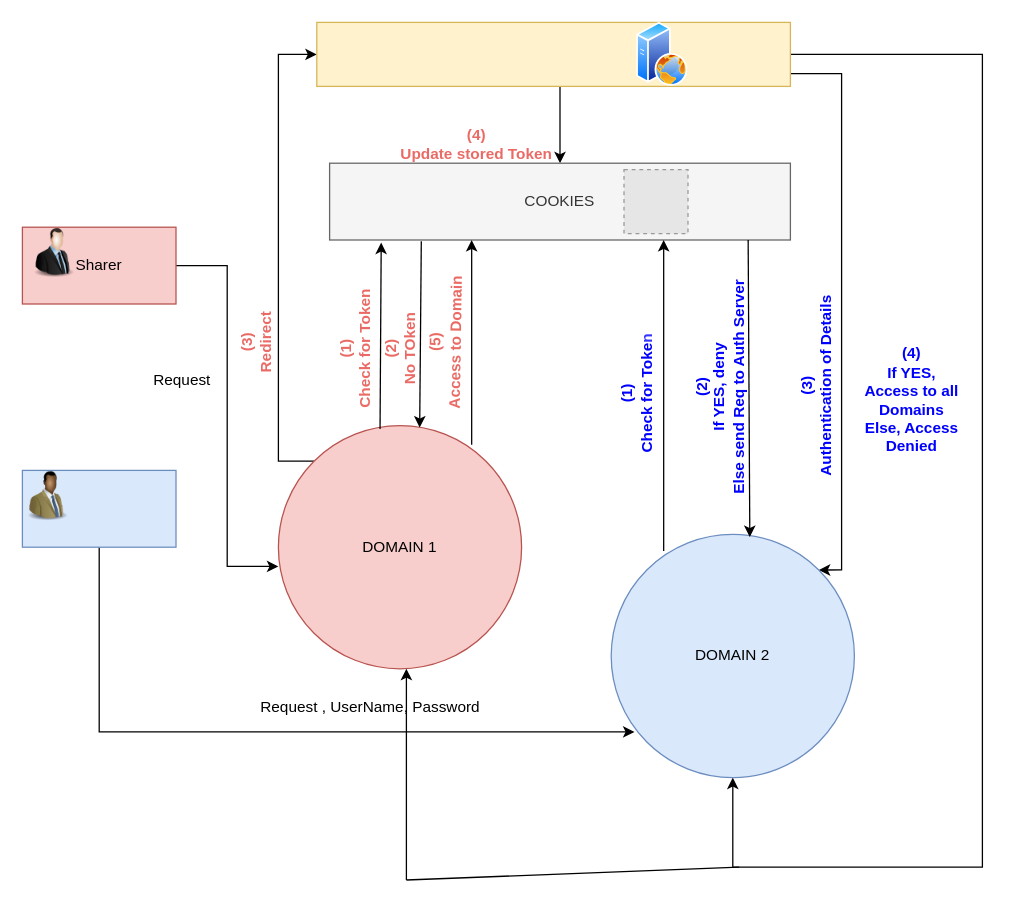
The diagram is 1015 pixels wide and 913 high, and some of its shapes have lost their labels. Grey dashed boxes stand in for pictures. Here are the shapes that lost their labels. From the top down, the box of each, then its label:
(316, 21, 790, 86): AUTH SERVER
(21, 469, 176, 547): Sharee
